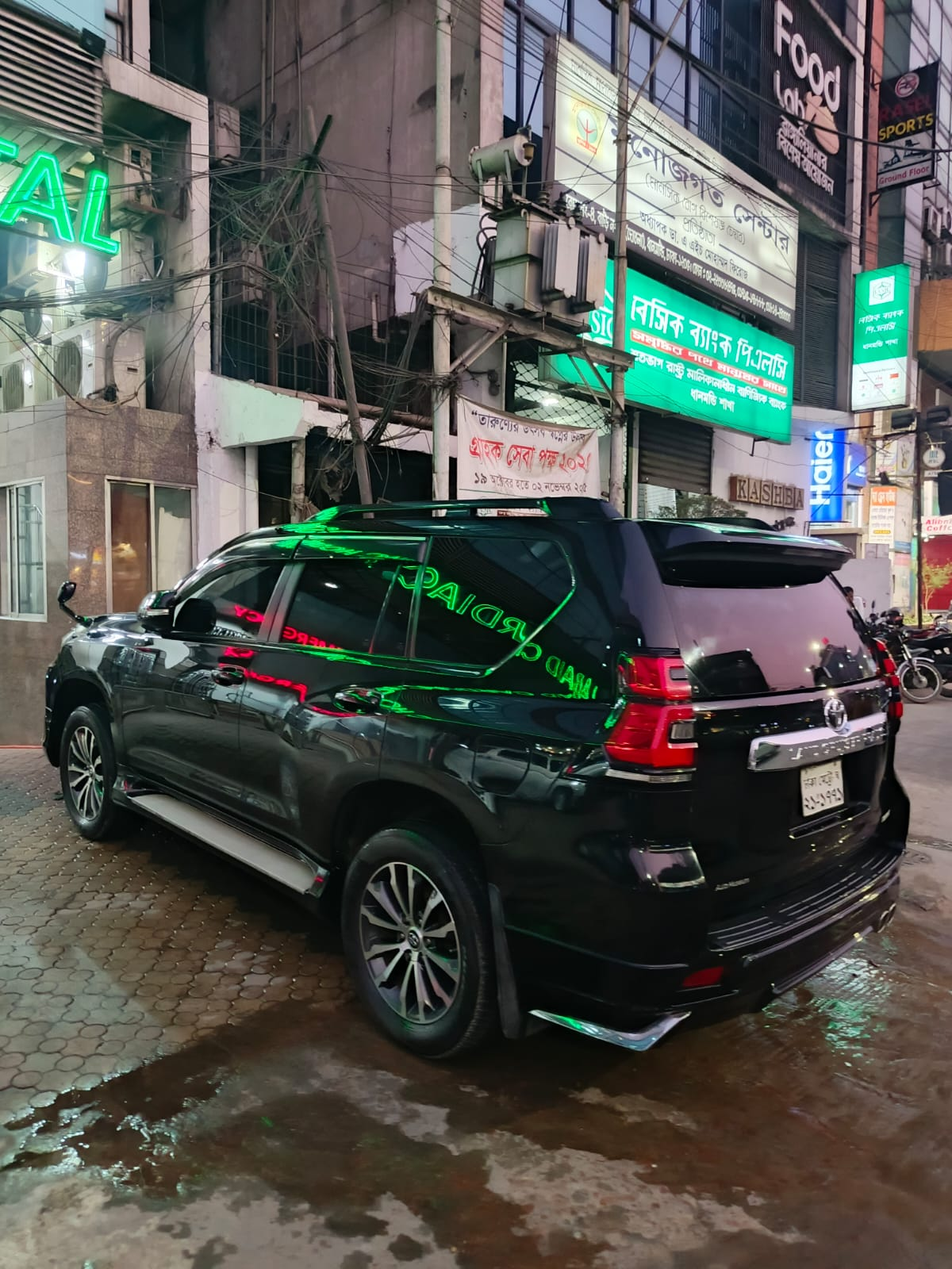private car: (24, 485, 923, 1070)
